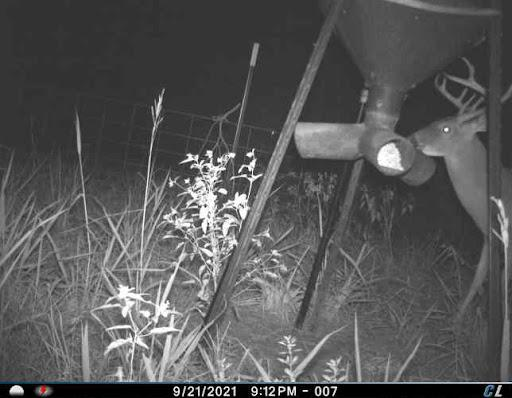Deer: (409, 55, 512, 352)
